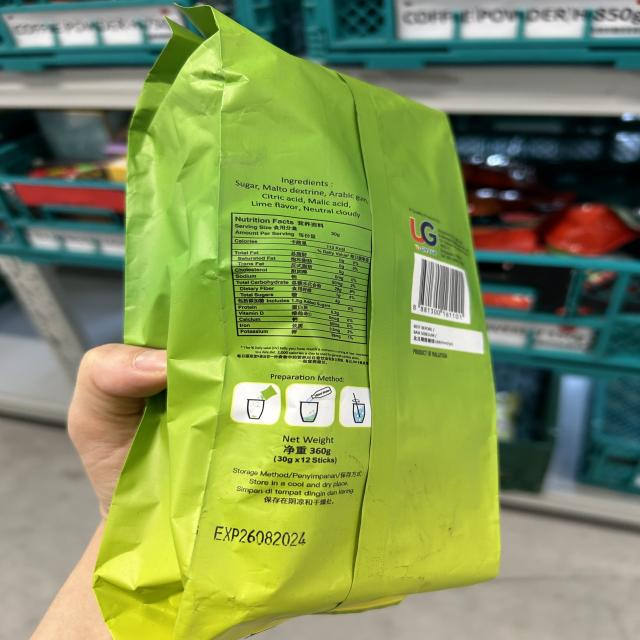object_name: (150, 35, 508, 627)
